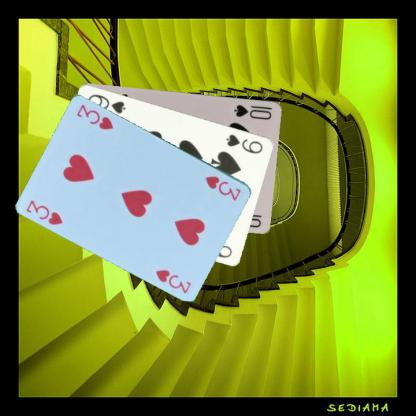10s: (232, 102, 274, 120)
3h: (203, 172, 243, 202), (24, 197, 64, 227)
9s: (224, 131, 264, 155)
